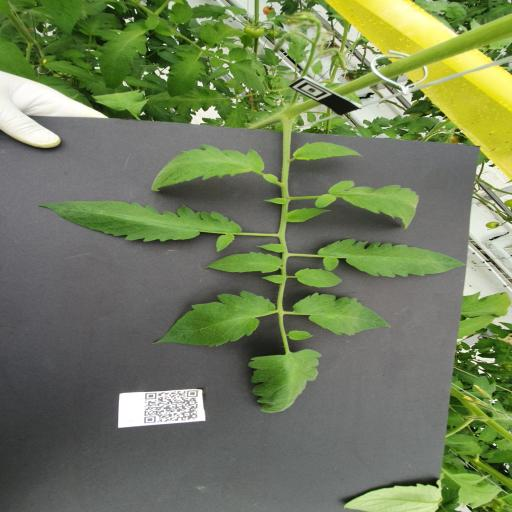Healthy: (38, 201, 242, 252), (150, 289, 276, 347), (316, 238, 466, 277), (151, 143, 265, 192), (314, 180, 419, 230), (247, 350, 322, 414), (292, 292, 392, 336), (98, 20, 147, 89), (165, 50, 208, 96), (203, 252, 283, 274), (228, 58, 266, 98), (460, 290, 512, 318), (293, 141, 363, 161), (45, 60, 100, 84), (456, 314, 496, 340), (294, 268, 343, 288), (286, 207, 332, 222), (168, 0, 193, 24), (255, 243, 286, 253), (288, 330, 314, 341), (228, 48, 248, 62), (260, 274, 286, 284), (311, 60, 324, 74), (276, 65, 292, 71)
